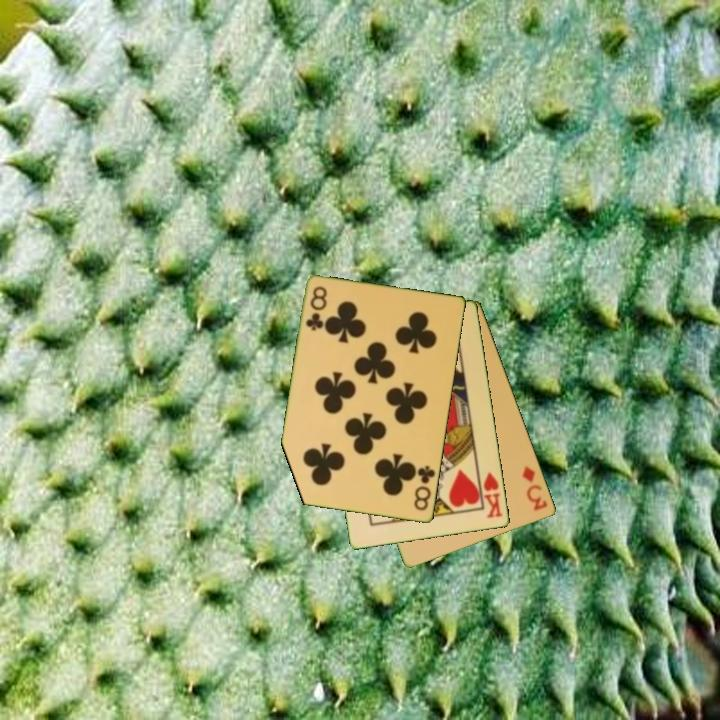3d: (519, 462, 551, 514)
8c: (302, 283, 330, 334), (411, 462, 438, 514)
Kh: (475, 467, 505, 521)
